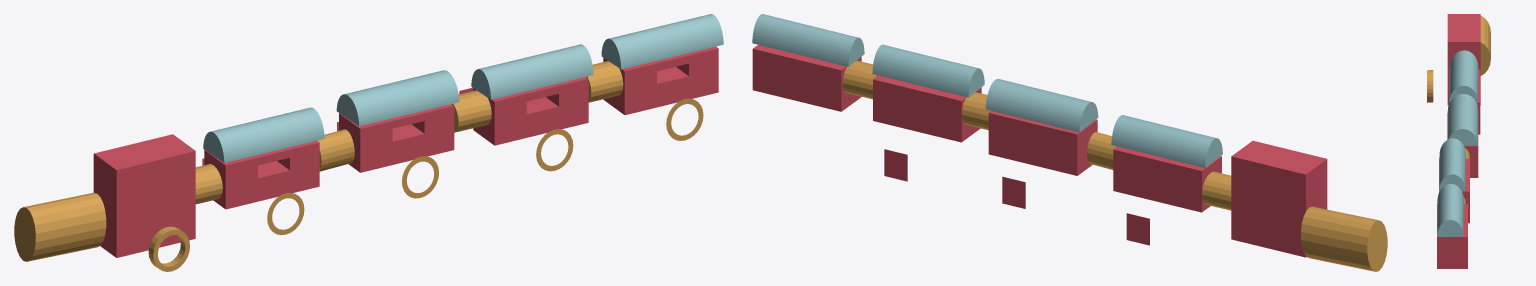
Rendered from Bodacious Duup-Kieran.glb.
3 views of the same model, side by side, from view 1: azimuth 30°, elevation 25°; view 2: azimuth 150°, elevation 25°; view 3: azimuth 270°, elevation 25° (orthographic). The views are drawn at different scales.
Visible parts, largest first — view 1: Mesh_Mesh_head_geo.001_lambert2SG.001; view 2: Mesh_Mesh_head_geo.001_lambert2SG.001; view 3: Mesh_Mesh_head_geo.001_lambert2SG.001.
Boxes of the visible parts, bbox=[...] form: Mesh_Mesh_head_geo.001_lambert2SG.001: bbox=[14, 14, 723, 271]; Mesh_Mesh_head_geo.001_lambert2SG.001: bbox=[752, 14, 1387, 271]; Mesh_Mesh_head_geo.001_lambert2SG.001: bbox=[1427, 14, 1490, 268].
Size of the model in its own units: 273 by 42 by 50.94.
